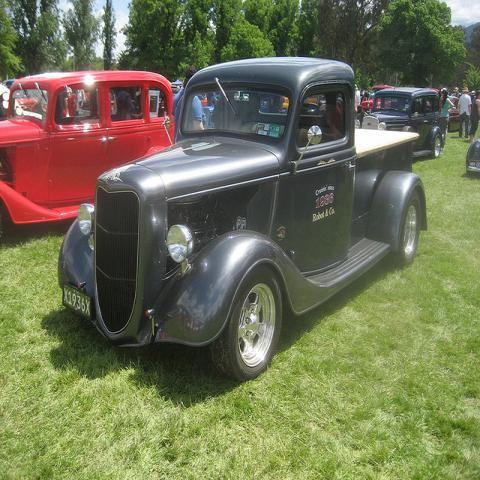car: (2, 64, 174, 222), (360, 85, 394, 110), (448, 95, 460, 132)
truck: (57, 55, 429, 388)
